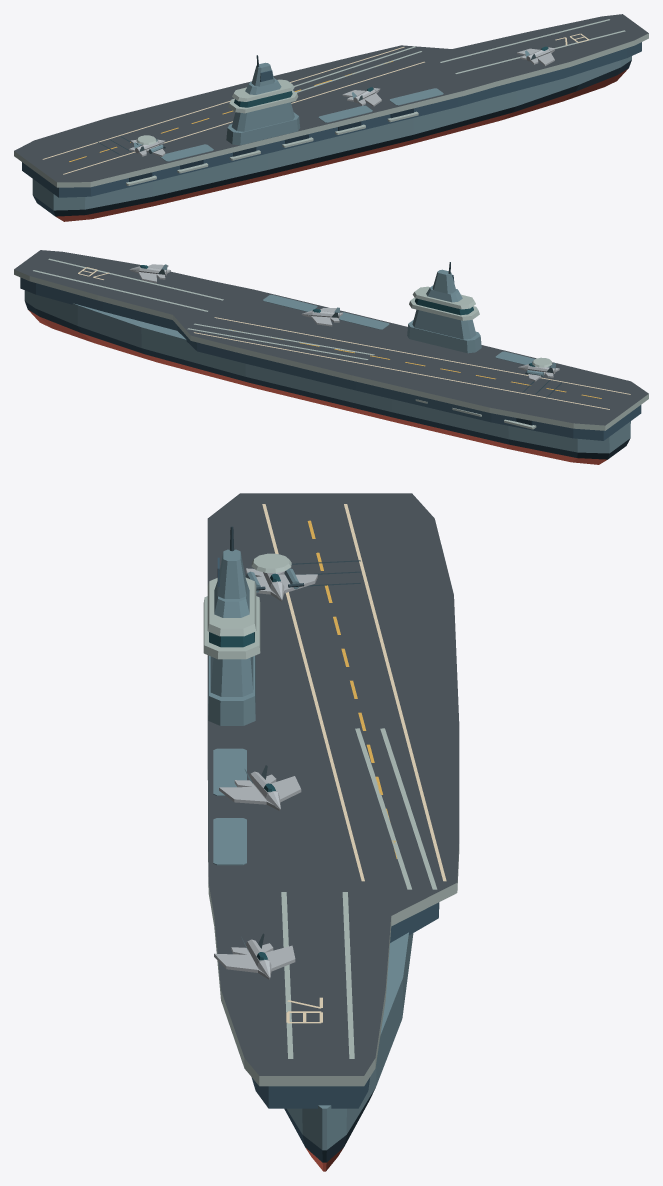
File: uss_gerald_r_ford_cvn78.glb
3 renders of one model, top to bottom at view 1: azimuth 30°, elevation 25°; view 2: azimuth 150°, elevation 25°; view 3: azimuth 270°, elevation 25°, orthographic. The views are drawn at different scales.
Parts seen in each view (by area): view 1: uss_gerald_r_ford_cvn78; view 2: uss_gerald_r_ford_cvn78; view 3: uss_gerald_r_ford_cvn78.
Boxes of the visible parts, x1,y1,x2,y2 form: uss_gerald_r_ford_cvn78: (14,14,648,221); uss_gerald_r_ford_cvn78: (14,250,648,464); uss_gerald_r_ford_cvn78: (203,493,459,1171).
Bounding box in the file's own units: 4.88 × 1.06 × 0.9055.
